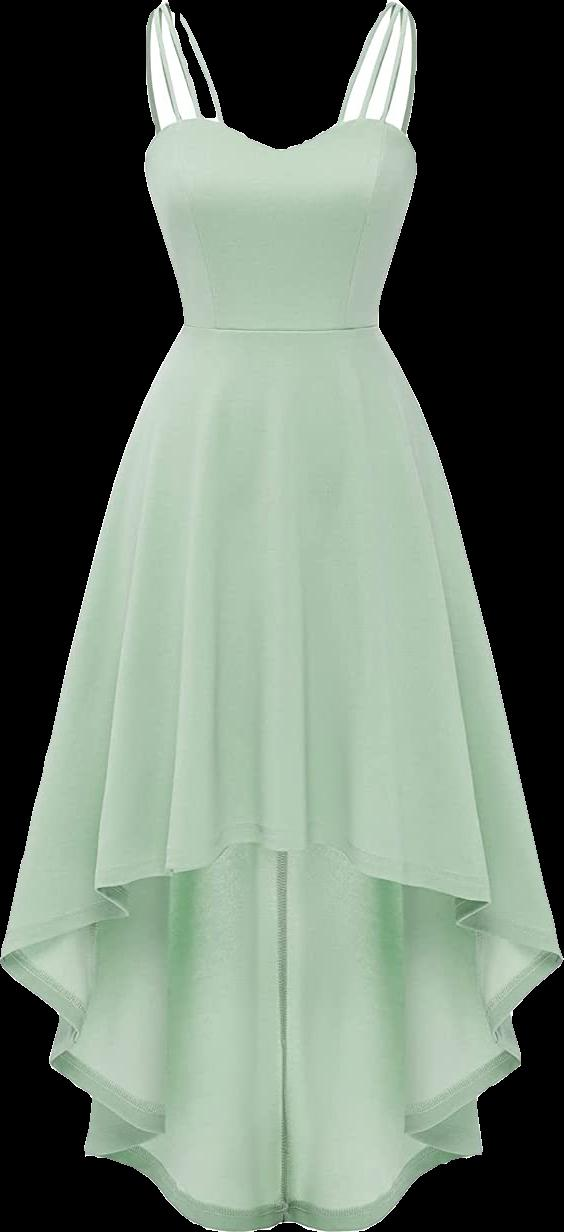Bodice: (144, 0, 416, 335)
Hemline: (0, 829, 557, 971)
Neckline: (159, 2, 396, 164)
Skirt: (1, 325, 561, 1231)
Waistline: (178, 319, 380, 345)
